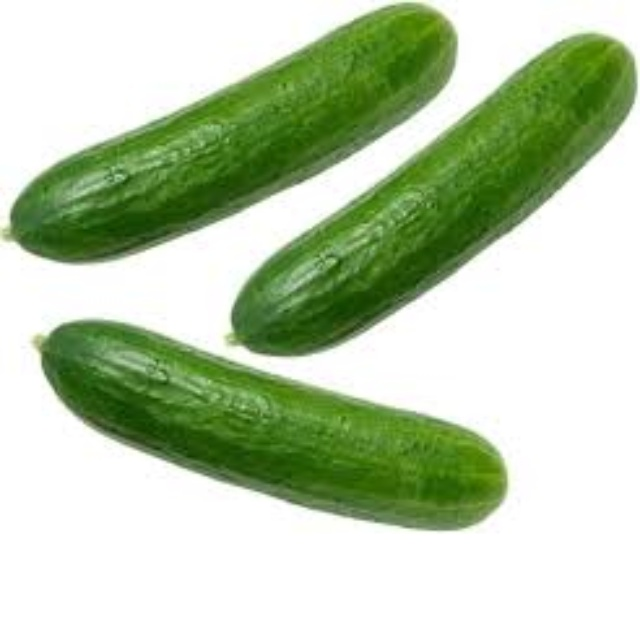dua_leo: (230, 33, 637, 367), (9, 3, 461, 269), (33, 319, 515, 535)
